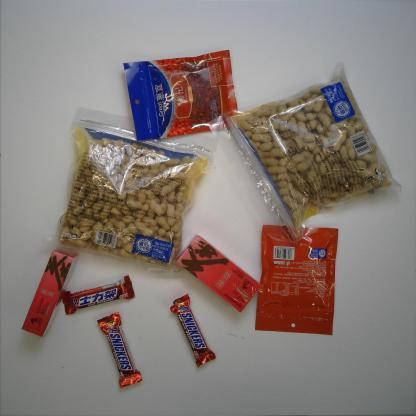Chocolate: (169, 293, 217, 369), (97, 311, 143, 388), (62, 274, 135, 315)
Dried Food: (208, 63, 402, 244), (42, 106, 217, 274)
Dried Fruit: (124, 49, 240, 143), (254, 224, 340, 336)
Instant Drink: (176, 235, 262, 314), (20, 248, 80, 339)
